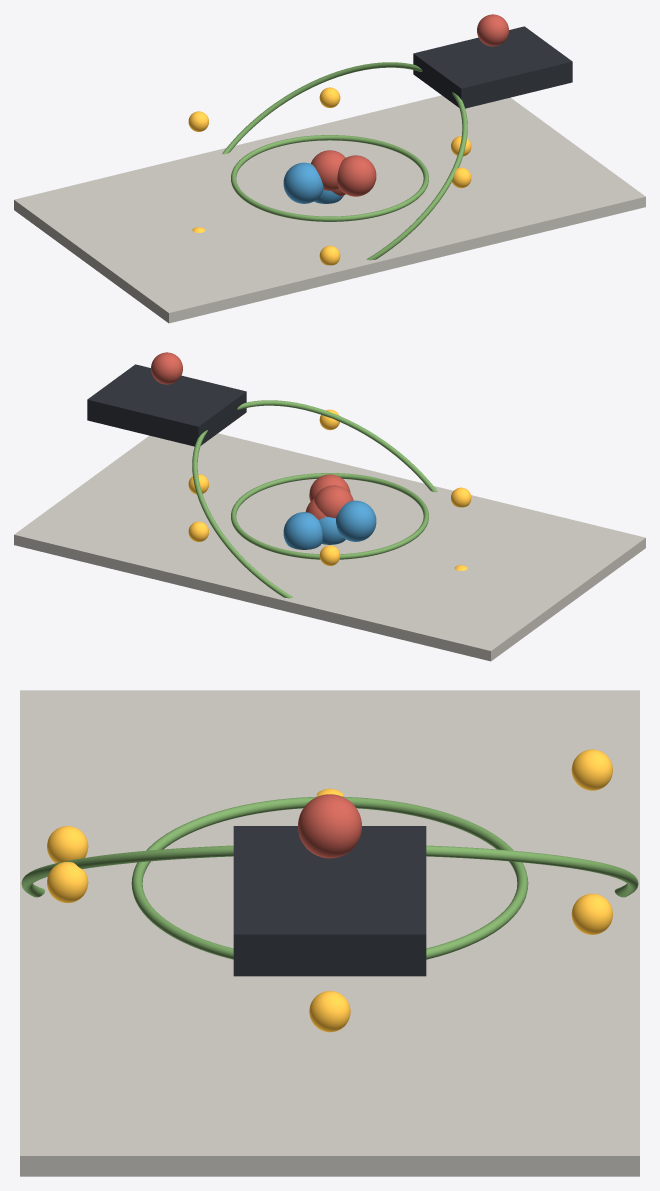
Rendered from chem-atoms-element.glb.
3 renders of one model, top to bottom at view 1: azimuth 30°, elevation 25°; view 2: azimuth 150°, elevation 25°; view 3: azimuth 270°, elevation 25°, orthographic. The views are drawn at different scales.
Parts seen in each view (by area): view 1: concept-base, element-card, electron-shell-1, electron-shell-2, proton-2, neutron-1, proton-3, same-proton-count-marker; view 2: concept-base, element-card, electron-shell-2, electron-shell-1, neutron-1, neutron-3, proton-3, same-proton-count-marker, neutron-2, proton-2; view 3: concept-base, element-card, electron-shell-1, electron-shell-2, same-proton-count-marker, electron-6, electron-1, electron-5, electron-2, electron-3.
Part boxes in pixels (x1,y1,x2,y2): concept-base: [14, 95, 645, 323]; element-card: [413, 26, 572, 108]; electron-shell-1: [231, 135, 428, 221]; electron-shell-2: [222, 62, 467, 260]; proton-2: [337, 155, 376, 196]; neutron-1: [283, 162, 323, 203]; proton-3: [311, 150, 345, 190]; same-proton-count-marker: [477, 14, 508, 46]; concept-base: [14, 433, 645, 661]; element-card: [87, 364, 246, 446]; electron-shell-2: [192, 400, 437, 598]; electron-shell-1: [231, 473, 428, 559]; neutron-1: [336, 500, 376, 541]; neutron-3: [283, 512, 322, 549]; proton-3: [314, 485, 353, 518]; same-proton-count-marker: [151, 352, 182, 384]; neutron-2: [318, 516, 345, 544]; proton-2: [309, 474, 350, 501]; concept-base: [20, 690, 639, 1176]; element-card: [233, 826, 426, 976]; electron-shell-1: [131, 796, 528, 959]; electron-shell-2: [21, 845, 638, 897]; same-proton-count-marker: [298, 794, 361, 858]; electron-6: [571, 893, 612, 934]; electron-1: [309, 991, 350, 1032]; electron-5: [571, 749, 612, 790]; electron-2: [47, 862, 88, 902]; electron-3: [47, 826, 88, 863].
Size of what is drawn, in the model's own units: 2.4 by 0.9468 by 1.35.
